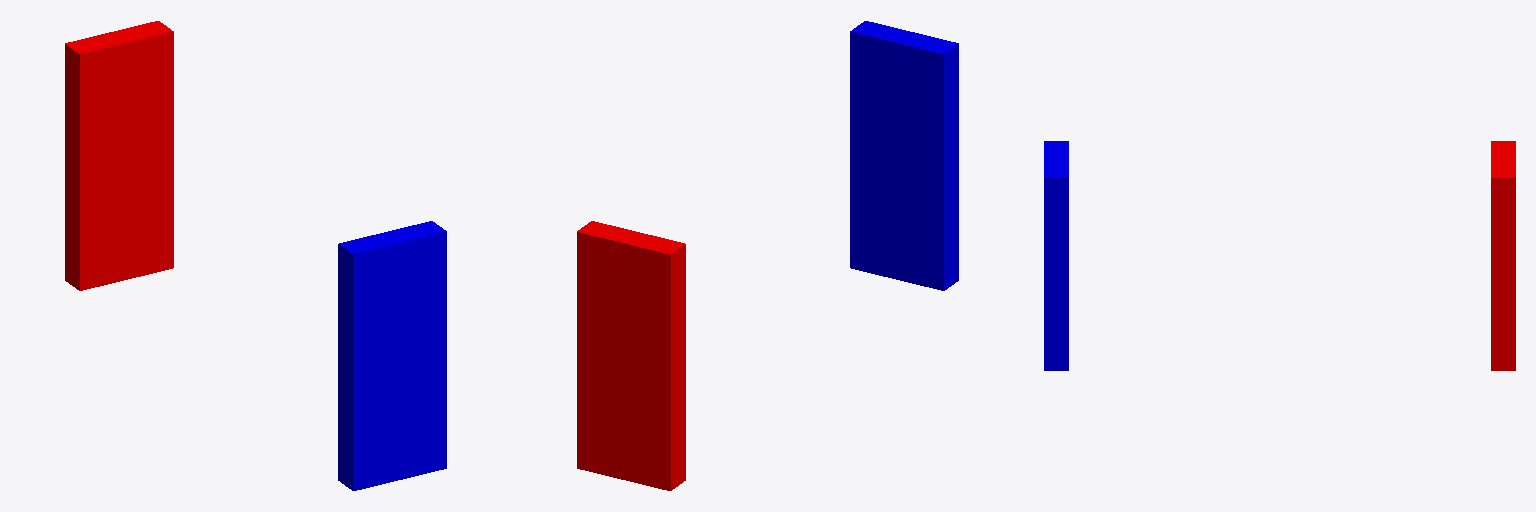
The robot description file, URDF, robot "robotiq_140":
<?xml version="1.0" ?>
<!-- =================================================================================== -->
<!-- |    This document was autogenerated by xacro from sisbot.xacro                   | -->
<!-- |    EDITING THIS FILE BY HAND IS NOT RECOMMENDED                                 | -->
<!-- =================================================================================== -->
<robot name="robotiq_140" xmlns:xacro="http://ros.org/wiki/xacro">
  <link name="robotiq_arg2f_base_link">
    <inertial>
      <origin rpy="0 0 0" xyz="8.625E-08 -4.6583E-06 0.03145"/>
      <mass value="0.22652"/>
      <inertia ixx="0.00020005" ixy="-4.2442E-10" ixz="-2.9069E-10" iyy="0.00017832" iyz="-3.4402E-08" izz="0.00013478"/>
    </inertial>
    <visual>
      <origin rpy="0 0 0" xyz="0 0 0"/>
      <geometry>
        <mesh filename="./visual/robotiq_arg2f_base_link.stl"/>
      </geometry>
      <material name="">
        <color rgba="0.1 0.1 0.1 1"/>
      </material>
    </visual>
<!--
    <collision>
      <origin rpy="0 0 0" xyz="0 0 0"/>
      <geometry>
        <mesh filename="./collision/robotiq_arg2f_base_link.stl"/>
      </geometry>
    </collision>
-->
  </link>
  <link name="left_outer_knuckle">
    <inertial>
      <origin rpy="0 0 0" xyz="-0.000200000000003065 0.0199435877845359 0.0292245259211331"/>
      <mass value="0.00853198276973456"/>
      <inertia ixx="2.89328108496468E-06" ixy="-1.57935047237397E-19" ixz="-1.93980378593255E-19" iyy="1.86719750325683E-06" iyz="-1.21858577871576E-06" izz="1.21905238907251E-06"/>
    </inertial>
    <visual>
      <origin rpy="0 0 0" xyz="0 0 0"/>
      <geometry>
        <mesh filename="./visual/robotiq_arg2f_140_outer_knuckle.stl"/>
      </geometry>
      <material name="">
        <color rgba="0.792156862745098 0.819607843137255 0.933333333333333 0.1"/>
      </material>
    </visual>
<!--
    <collision>
      <origin rpy="0 0 0" xyz="0 0 0"/>
      <geometry>
        <mesh filename="./collision/robotiq_arg2f_140_outer_knuckle.stl"/>
      </geometry>
    </collision>
-->
  </link>
  <link name="left_outer_finger">
    <inertial>
      <origin rpy="0 0 0" xyz="0.00030115855001899 0.0373907951953854 -0.0208027427000385"/>
      <mass value="0.022614240507152"/>
      <inertia ixx="1.52518312458174E-05" ixy="9.76583423954399E-10" ixz="-5.43838577022588E-10" iyy="6.17694243867776E-06" iyz="6.78636130740228E-06" izz="1.16494917907219E-05"/>
    </inertial>
    <visual>
      <origin rpy="0 0 0" xyz="0 0 0"/>
      <geometry>
        <mesh filename="./visual/robotiq_arg2f_140_outer_finger.stl"/>
      </geometry>
      <material name="">
        <color rgba="0.1 0.1 0.1 0.2"/>
      </material>
    </visual>
<!--
    <collision>
      <origin rpy="0 0 0" xyz="0 0 0"/>
      <geometry>
        <mesh filename="./collision/robotiq_arg2f_140_outer_finger.stl"/>
      </geometry>
    </collision>
-->
  </link>
  <link name="left_inner_finger">
    <inertial>
      <origin rpy="0 0 0" xyz="0.000299999999999317 0.0160078233491243 -0.0136945669206257"/>
      <mass value="0.0104003125914103"/>
      <inertia ixx="2.71909453810972E-06" ixy="1.35402465472579E-21" ixz="-7.1817349065269E-22" iyy="7.69100314106116E-07" iyz="6.74715432769696E-07" izz="2.30315190420171E-06"/>
    </inertial>
    <visual>
      <origin rpy="0 0 0" xyz="0 0 0"/>
      <geometry>
        <mesh filename="./visual/robotiq_arg2f_140_inner_finger.stl"/>
      </geometry>
      <material name="">
        <color rgba="0.1 0.1 0.1 0.3"/>
      </material>
    </visual>
<!--
    <collision>
      <origin rpy="0 0 0" xyz="0 0 0"/>
      <geometry>
        <mesh filename="./collision/robotiq_arg2f_140_inner_finger.stl"/>
      </geometry>
    </collision>
-->
  </link>
  <link name="left_inner_finger_pad">
    <inertial>
      <mass value="1."/>
      <inertia ixx="1E-10" ixy="1E-10" ixz="1E-10" iyy="1E-10" iyz="1E-10" izz="1E-10"/>
    </inertial>

    <visual>
      <origin rpy="0 0 0" xyz="0 0 0"/>
      <geometry>
        <box size="0.027 0.065 0.0075"/>
      </geometry>
      <material name="">
        <color rgba="0 0 1 1"/>
      </material>
    </visual>
<!--
    <collision>
      <origin rpy="0 0 0" xyz="0 0 0"/>
      <geometry>
        <box size="0.03 0.07 0.0075"/>
      </geometry>
      <material name="">
        <color rgba="0.9 0.0 0.0 1"/>
      </material>
    </collision>
-->
  </link>
  <link name="left_inner_knuckle">
    <inertial>
      <origin rpy="0 0 0" xyz="0.000123011831763771 0.0507850843201817 0.00103968640075166"/>
      <mass value="0.0271177346495152"/>
      <inertia ixx="2.61910379223783E-05" ixy="-2.43616858946494E-07" ixz="-6.37789906117123E-09" iyy="2.8270243746167E-06" iyz="-5.37200748039765E-07" izz="2.83695868220296E-05"/>
    </inertial>
    <visual>
      <origin rpy="0 0 0" xyz="0 0 0"/>
      <geometry>
        <mesh filename="./visual/robotiq_arg2f_140_inner_knuckle.stl"/>
      </geometry>
      <material name="">
        <color rgba="0.1 0.1 0.1 1"/>
      </material>
    </visual>
<!--
    <collision>
      <origin rpy="0 0 0" xyz="0 0 0"/>
      <geometry>
        <mesh filename="./collision/robotiq_arg2f_140_inner_knuckle.stl"/>
      </geometry>
    </collision>
-->
  </link>
  <link name="right_outer_knuckle">
    <inertial>
      <origin rpy="0 0 0" xyz="-0.000200000000003065 0.0199435877845359 0.0292245259211331"/>
      <mass value="0.00853198276973456"/>
      <inertia ixx="2.89328108496468E-06" ixy="-1.57935047237397E-19" ixz="-1.93980378593255E-19" iyy="1.86719750325683E-06" iyz="-1.21858577871576E-06" izz="1.21905238907251E-06"/>
    </inertial>
    <visual>
      <origin rpy="0 0 0" xyz="0 0 0"/>
      <geometry>
        <mesh filename="./visual/robotiq_arg2f_140_outer_knuckle.stl"/>
      </geometry>
      <material name="">
        <color rgba="0.792156862745098 0.819607843137255 0.933333333333333 1"/>
      </material>
    </visual>
<!--
    <collision>
      <origin rpy="0 0 0" xyz="0 0 0"/>
      <geometry>
        <mesh filename="./collision/robotiq_arg2f_140_outer_knuckle.stl"/>
      </geometry>
    </collision>
-->
  </link>
  <link name="right_outer_finger">
    <inertial>
      <origin rpy="0 0 0" xyz="0.00030115855001899 0.0373907951953854 -0.0208027427000385"/>
      <mass value="0.022614240507152"/>
      <inertia ixx="1.52518312458174E-05" ixy="9.76583423954399E-10" ixz="-5.43838577022588E-10" iyy="6.17694243867776E-06" iyz="6.78636130740228E-06" izz="1.16494917907219E-05"/>
    </inertial>
    <visual>
      <origin rpy="0 0 0" xyz="0 0 0"/>
      <geometry>
        <mesh filename="./visual/robotiq_arg2f_140_outer_finger.stl"/>
      </geometry>
      <material name="">
        <color rgba="0.1 0.1 0.1 1"/>
      </material>
    </visual>
<!--
    <collision>
      <origin rpy="0 0 0" xyz="0 0 0"/>
      <geometry>
        <mesh filename="./collision/robotiq_arg2f_140_outer_finger.stl"/>
      </geometry>
    </collision>
-->
  </link>
  <link name="right_inner_finger">
    <inertial>
      <origin rpy="0 0 0" xyz="0.000299999999999317 0.0160078233491243 -0.0136945669206257"/>
      <mass value="0.0104003125914103"/>
      <inertia ixx="2.71909453810972E-06" ixy="1.35402465472579E-21" ixz="-7.1817349065269E-22" iyy="7.69100314106116E-07" iyz="6.74715432769696E-07" izz="2.30315190420171E-06"/>
    </inertial>
    <visual>
      <origin rpy="0 0 0" xyz="0 0 0"/>
      <geometry>
        <mesh filename="./visual/robotiq_arg2f_140_inner_finger.stl"/>
      </geometry>
      <material name="">
        <color rgba="0.1 0.1 0.1 1"/>
      </material>
    </visual>
<!--
    <collision>
      <origin rpy="0 0 0" xyz="0 0 0"/>
      <geometry>
        <mesh filename="./collision/robotiq_arg2f_140_inner_finger.stl"/>
      </geometry>
    </collision>
-->
  </link>
  <link name="right_inner_finger_pad">
    <inertial>
      <mass value="1."/>
      <inertia ixx="1E-10" ixy="1E-10" ixz="1E-10" iyy="1E-10" iyz="1E-10" izz="1E-10"/>
    </inertial>

    <visual>
      <origin rpy="0 0 0" xyz="0 0 0"/>
      <geometry>
        <box size="0.027 0.065 0.0075"/>
      </geometry>
      <material name="">
        <color rgba="1 0 0 1"/>
      </material>
    </visual>
<!--
    <collision>
      <origin rpy="0 0 0" xyz="0 0 0"/>
      <geometry>
        <box size="0.03 0.07 0.0075"/>
      </geometry>
      <material name="">
        <color rgba="0.9 0.0 0.0 1"/>
      </material>
    </collision>
-->
  </link>
  <link name="right_inner_knuckle">
    <inertial>
      <origin rpy="0 0 0" xyz="0.000123011831763771 0.0507850843201817 0.00103968640075166"/>
      <mass value="0.0271177346495152"/>
      <inertia ixx="2.61910379223783E-05" ixy="-2.43616858946494E-07" ixz="-6.37789906117123E-09" iyy="2.8270243746167E-06" iyz="-5.37200748039765E-07" izz="2.83695868220296E-05"/>
    </inertial>
    <visual>
      <origin rpy="0 0 0" xyz="0 0 0"/>
      <geometry>
        <mesh filename="./visual/robotiq_arg2f_140_inner_knuckle.stl"/>
      </geometry>
      <material name="">
        <color rgba="0.1 0.1 0.1 1"/>
      </material>
    </visual>
<!--
    <collision>
      <origin rpy="0 0 0" xyz="0 0 0"/>
      <geometry>
        <mesh filename="./collision/robotiq_arg2f_140_inner_knuckle.stl"/>
      </geometry>
    </collision>
-->
  </link>
  <joint name="finger_joint" type="revolute">
    <origin rpy="2.2957963267948966 0 0" xyz="0 -0.030601 0.054905"/>
    <parent link="robotiq_arg2f_base_link"/>
    <child link="left_outer_knuckle"/>
    <axis xyz="-1 0 0"/>
    <limit effort="1000" lower="0" upper="0.7" velocity="2.0"/>
  </joint>
  <joint name="left_outer_finger_joint" type="fixed">
    <origin rpy="0 0 0" xyz="0 0.01821998610742 0.0260018192872234"/>
    <parent link="left_outer_knuckle"/>
    <child link="left_outer_finger"/>
    <axis xyz="1 0 0"/>
  </joint>
  <joint name="left_inner_knuckle_joint" type="revolute">
    <origin rpy="2.2957963267948966 0 0.0" xyz="0 -0.0127 0.06142"/>
    <parent link="robotiq_arg2f_base_link"/>
    <child link="left_inner_knuckle"/>
    <axis xyz="1 0 0"/>
    <limit effort="1000" upper="0" lower="-0.8757" velocity="2.0"/>
    <mimic joint="finger_joint" multiplier="-1" offset="0"/>
  </joint>
  <joint name="left_inner_finger_joint" type="revolute">
    <origin rpy="-0.725 0 0" xyz="0 0.0817554015893473 -0.0282203446692936"/>
    <parent link="left_outer_finger"/>
    <child link="left_inner_finger"/>
    <axis xyz="1 0 0"/>
    <limit effort="1000" lower="0" upper="0.8757" velocity="2.0"/>
    <mimic joint="finger_joint" multiplier="1" offset="0"/>
  </joint>
  <joint name="left_inner_finger_pad_joint" type="fixed">
    <origin rpy="0 0 0" xyz="0 0.0457554015893473 -0.0272203446692936"/>
    <parent link="left_inner_finger"/>
    <child link="left_inner_finger_pad"/>
    <axis xyz="0 0 1"/>
  </joint>
  <joint name="right_outer_knuckle_joint" type="revolute">
    <origin rpy="2.2957963267948966 0 3.141592653589793" xyz="0 0.030601 0.054905"/>
    <parent link="robotiq_arg2f_base_link"/>
    <child link="right_outer_knuckle"/>
    <axis xyz="1 0 0"/>
    <limit effort="1000" upper="0" lower="-0.725" velocity="2.0"/>
    <mimic joint="finger_joint" multiplier="-1" offset="0"/>
  </joint>
  <joint name="right_outer_finger_joint" type="fixed">
    <origin rpy="0 0 0" xyz="0 0.01821998610742 0.0260018192872234"/>
    <parent link="right_outer_knuckle"/>
    <child link="right_outer_finger"/>
    <axis xyz="1 0 0"/>
  </joint>
  <joint name="right_inner_knuckle_joint" type="revolute">
    <origin rpy="2.2957963267948966 0 -3.141592653589793" xyz="0 0.0127 0.06142"/>
    <parent link="robotiq_arg2f_base_link"/>
    <child link="right_inner_knuckle"/>
    <axis xyz="1 0 0"/>
    <limit effort="1000" upper="0" lower="-0.8757" velocity="2.0"/>
    <mimic joint="finger_joint" multiplier="-1" offset="0"/>
  </joint>
  <joint name="right_inner_finger_joint" type="revolute">
    <origin rpy="-0.725 0 0" xyz="0 0.0817554015893473 -0.0282203446692936"/>
    <parent link="right_outer_finger"/>
    <child link="right_inner_finger"/>
    <axis xyz="1 0 0"/>
    <limit effort="1000" lower="0" upper="0.8757" velocity="2.0"/>
    <mimic joint="finger_joint" multiplier="1" offset="0"/>
  </joint>
  <joint name="right_inner_finger_pad_joint" type="fixed">
    <origin rpy="0 0 0" xyz="0 0.0457554015893473 -0.0272203446692936"/>
    <parent link="right_inner_finger"/>
    <child link="right_inner_finger_pad"/>
    <axis xyz="0 0 1"/>
  </joint>



</robot>

--- Facts derived from the render (not from the file) ---
The picture shows the robot from 3 angles, left to right: view 1: azimuth 30°, elevation 25°; view 2: azimuth 150°, elevation 25°; view 3: azimuth 270°, elevation 25°; orthographic projection.
Robot: robotiq_140 — 11 links, 10 joints (6 revolute, 4 fixed); root link robotiq_arg2f_base_link; default pose: every joint at zero.
Links seen in each view (by area): view 1: left_inner_finger_pad, right_inner_finger_pad; view 2: left_inner_finger_pad, right_inner_finger_pad; view 3: left_inner_finger_pad, right_inner_finger_pad.
Boxes of the visible links, x1,y1,x2,y2 form: left_inner_finger_pad: (338, 221, 446, 490); right_inner_finger_pad: (65, 21, 173, 290); left_inner_finger_pad: (850, 21, 958, 290); right_inner_finger_pad: (577, 221, 685, 490); left_inner_finger_pad: (1044, 141, 1068, 370); right_inner_finger_pad: (1491, 141, 1515, 370).
Bounding box of the posed robot: 0.027 × 0.1435 × 0.065 m (x, y, z).
0 mesh visuals loaded from 5 distinct referenced files (none loaded); not drawn: 9 (reference not matched to a file when rendering).